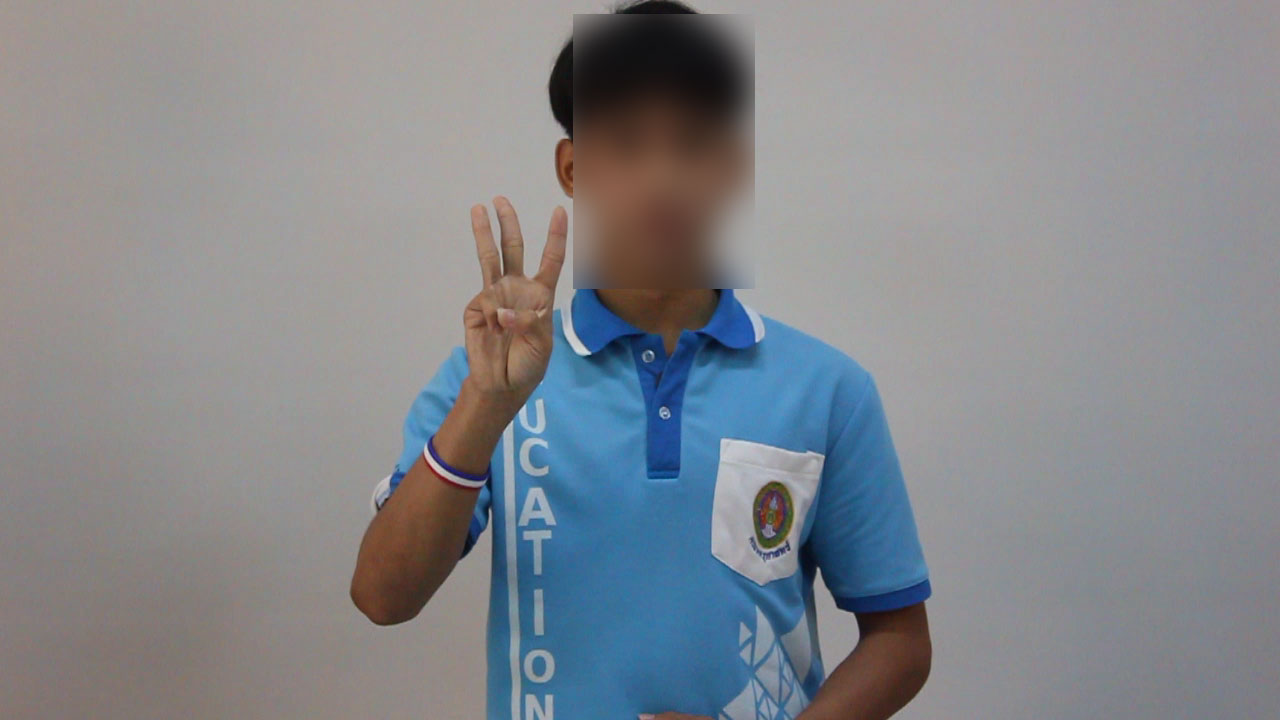wor: (458, 189, 574, 412)
